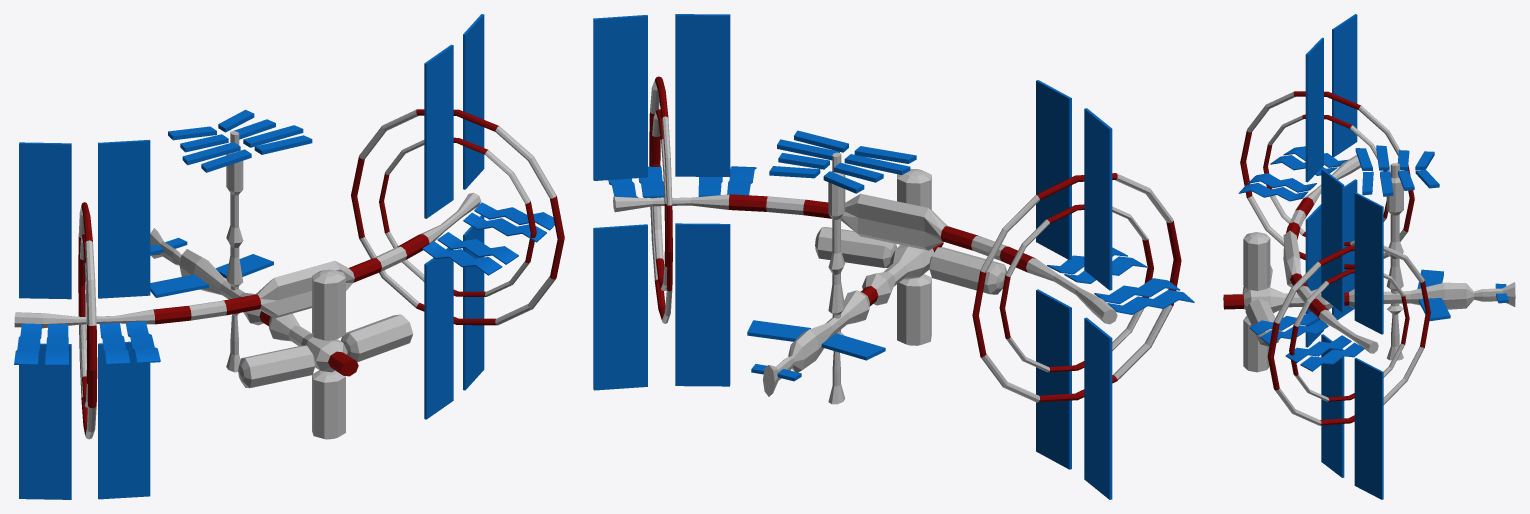
The model's file is CurvedStation.FBX.
The picture shows the model from 3 angles, left to right: view 1: azimuth 30°, elevation 25°; view 2: azimuth 150°, elevation 25°; view 3: azimuth 270°, elevation 25°; orthographic projection. The views are drawn at different scales.
Parts seen in each view (by area): view 1: Box019; view 2: Box019; view 3: Box019.
Part boxes in pixels (<box>): Box019: <box>14,14,564,499</box>; Box019: <box>593,14,1194,499</box>; Box019: <box>1223,14,1515,499</box>.
Bounding box in the file's own units: 16.02 × 9.8 × 8.86.
